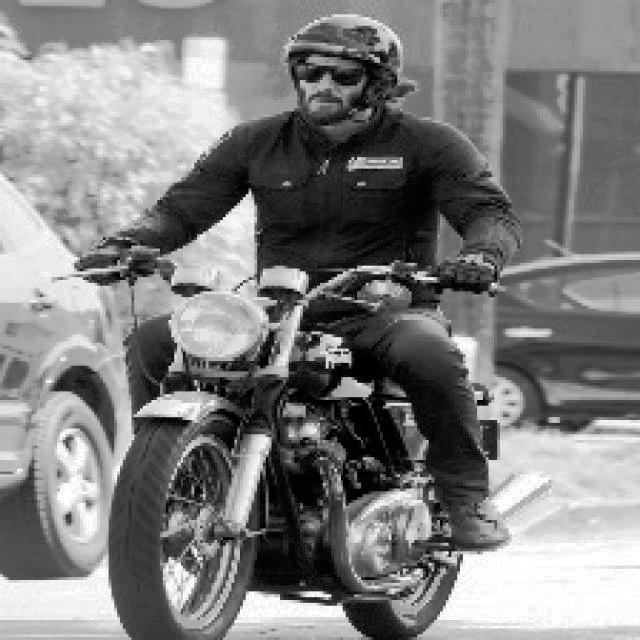Bike: (50, 253, 484, 640)
